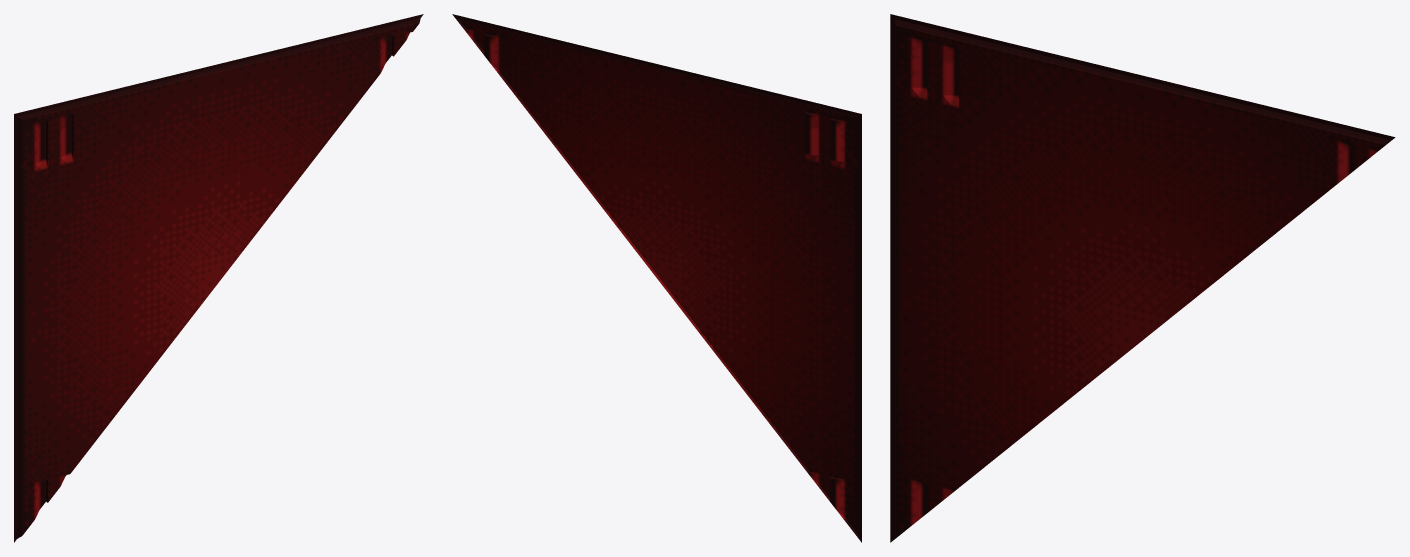
The model's file is sci1_6_slice45.fbx.
3 renders of one model, left to right at view 1: azimuth 30°, elevation 25°; view 2: azimuth 150°, elevation 25°; view 3: azimuth 330°, elevation 25°, orthographic. The views are drawn at different scales.
Visible parts, largest first — view 1: sci1_6_mesh_slice45; view 2: sci1_6_mesh_slice45; view 3: sci1_6_mesh_slice45.
Part boxes in pixels (x1,y1,x2,y2): sci1_6_mesh_slice45: (14, 14, 423, 542); sci1_6_mesh_slice45: (452, 14, 861, 542); sci1_6_mesh_slice45: (890, 14, 1395, 542).
Size of the model in its own units: 256 by 256 by 2.
